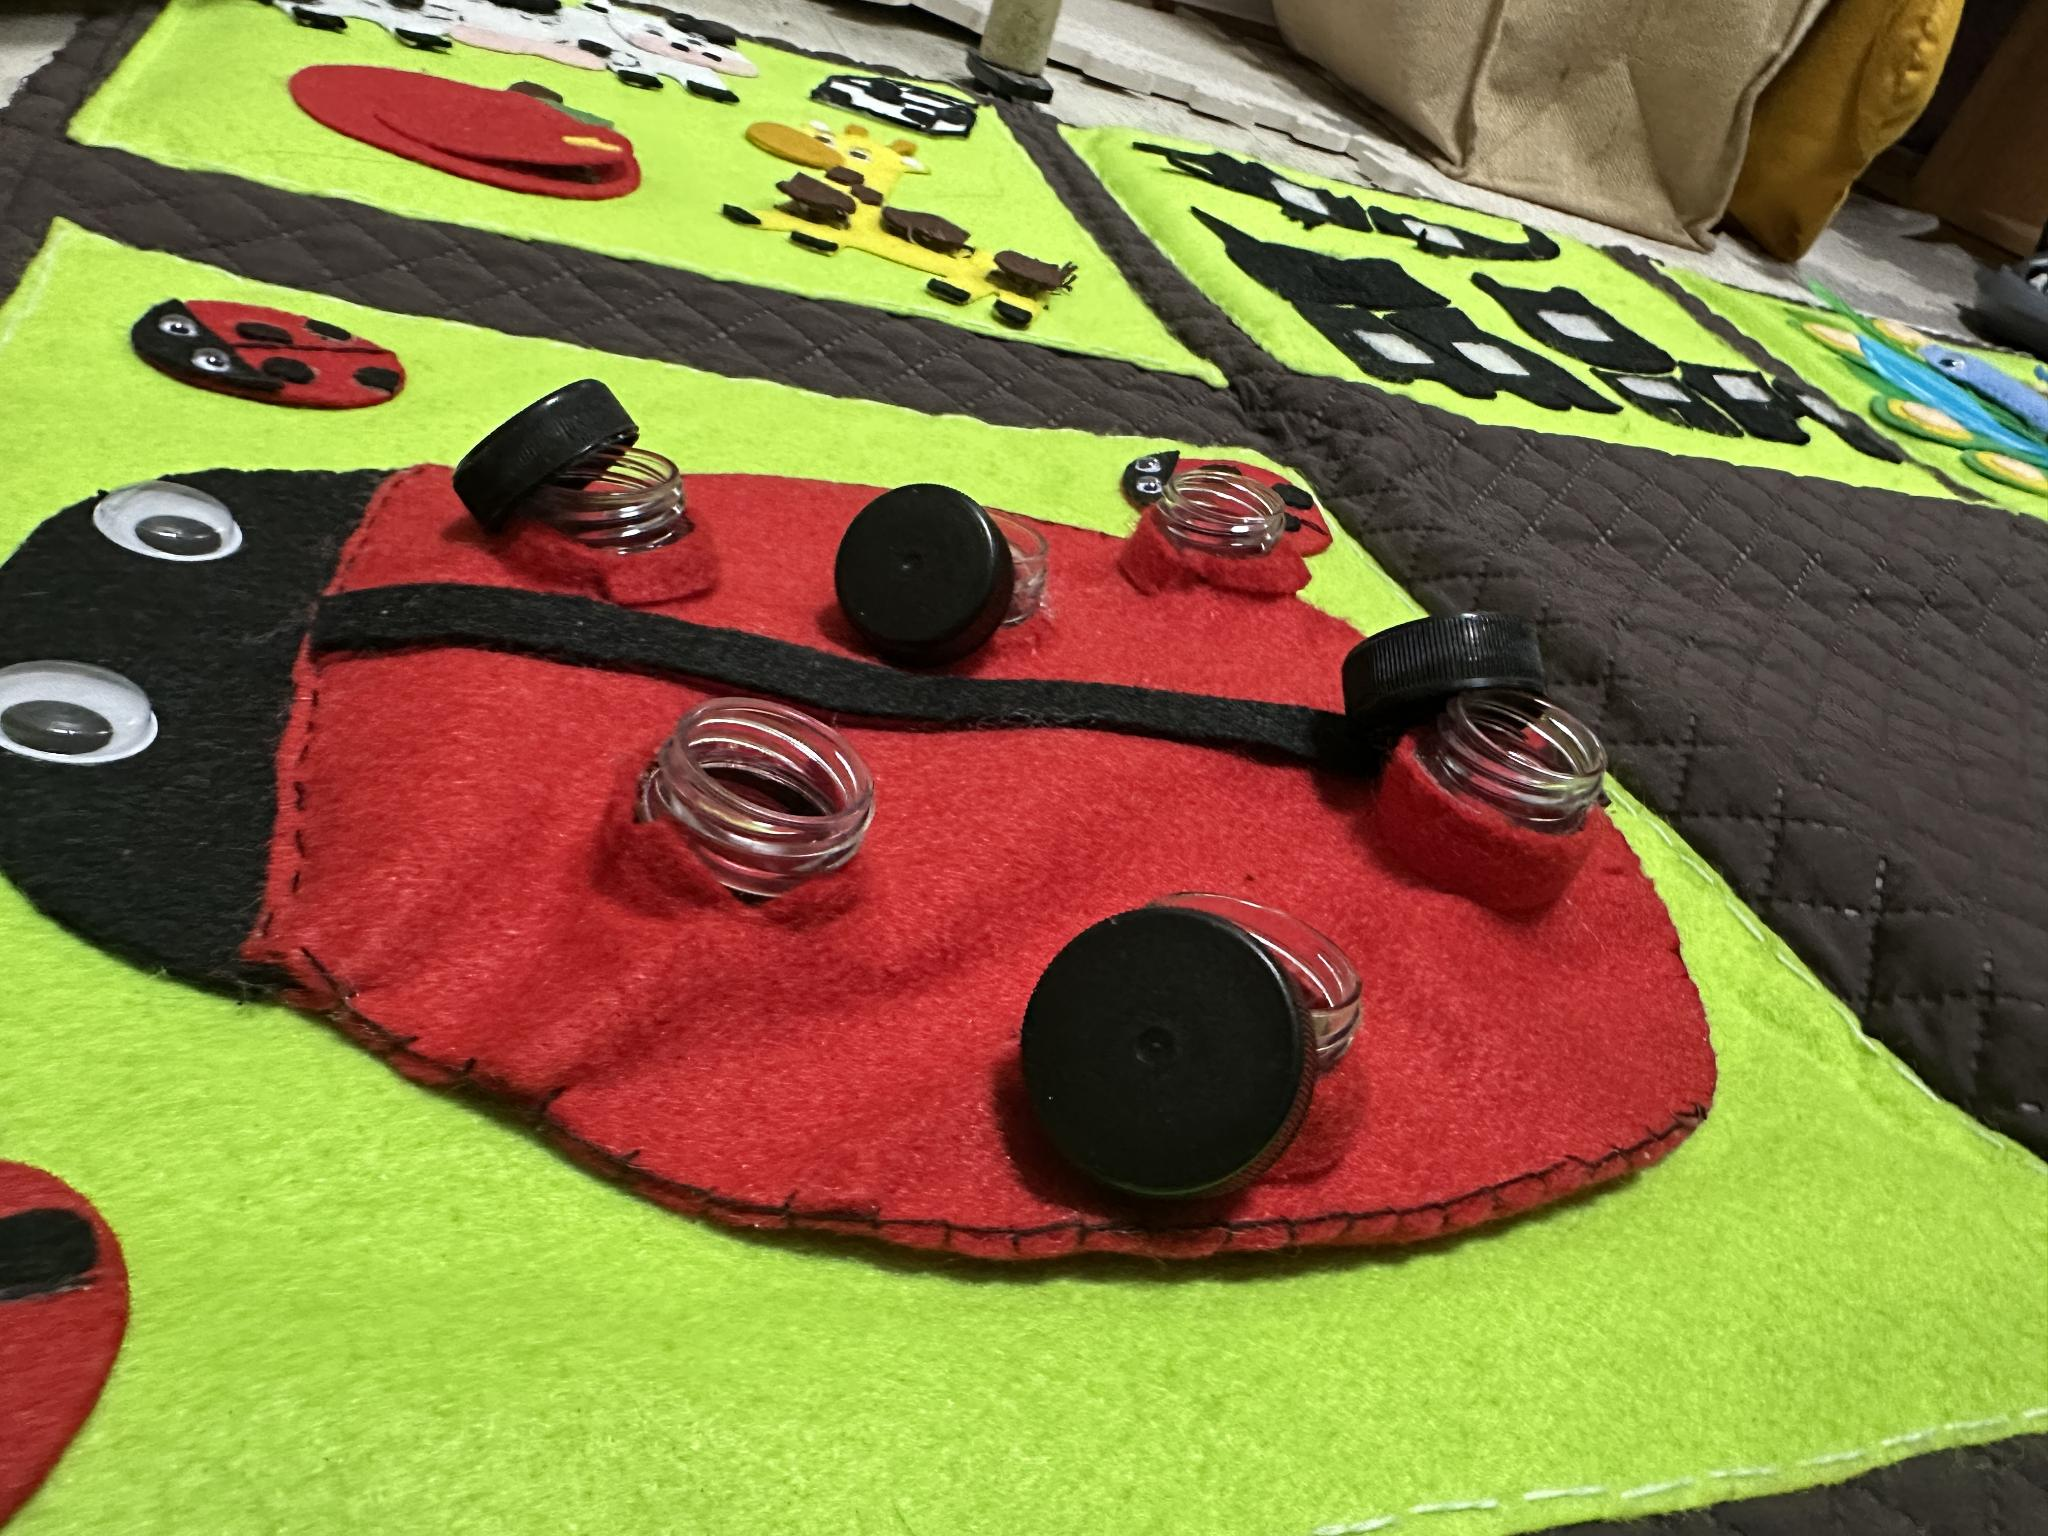cap_ng: (1006, 865, 1379, 1236), (1335, 594, 1614, 916), (450, 365, 731, 610), (813, 461, 1071, 679)
